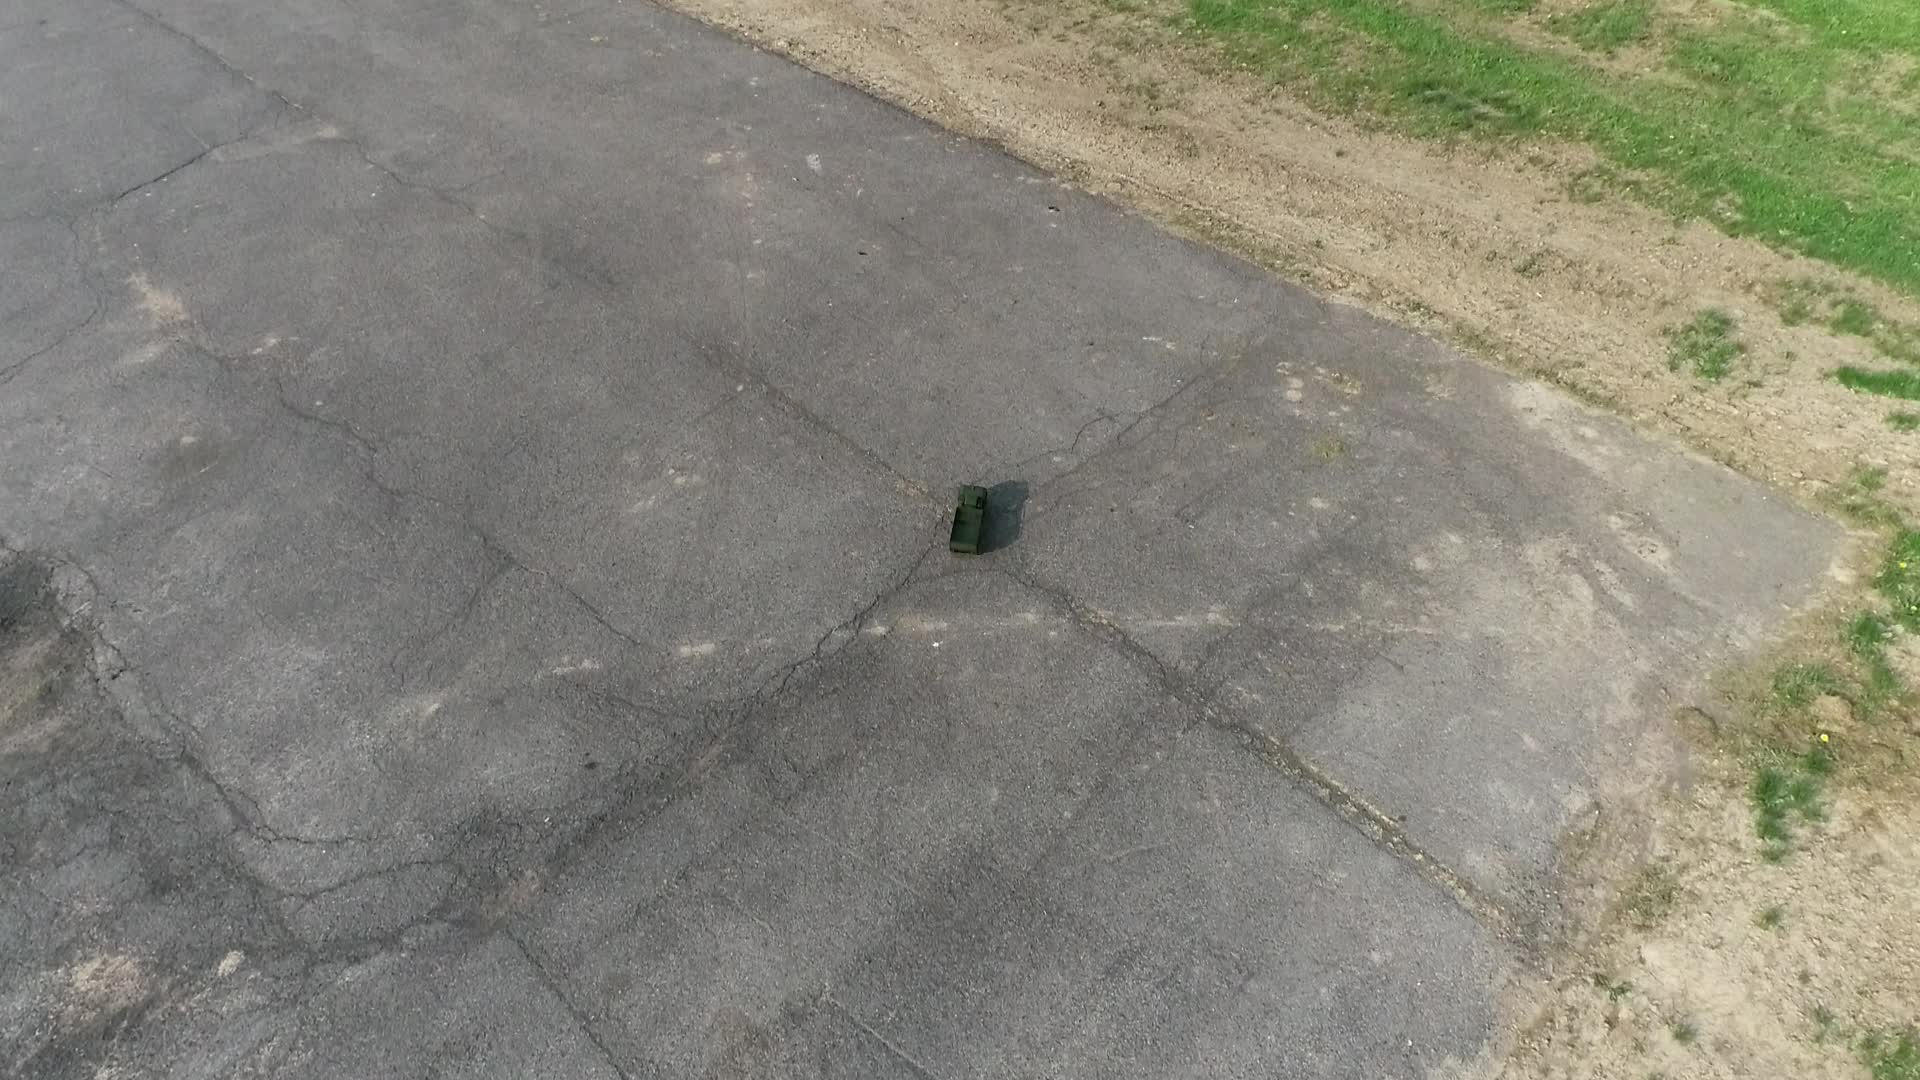transporter9: (945, 483, 989, 556)
